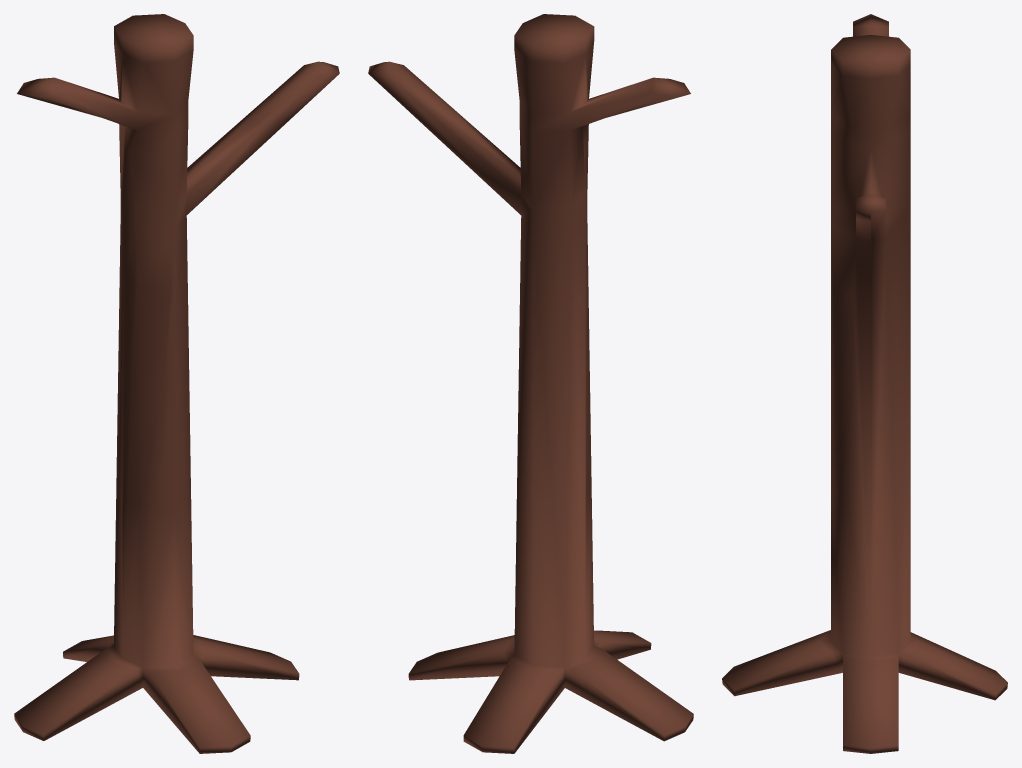
The model's file is CoatRack2.fbx.
The picture shows the model from 3 angles, left to right: view 1: azimuth 30°, elevation 25°; view 2: azimuth 150°, elevation 25°; view 3: azimuth 270°, elevation 25°; orthographic projection. The views are drawn at different scales.
Visible parts, largest first — view 1: Cube.074; view 2: Cube.074; view 3: Cube.074.
Part boxes in pixels (x1,y1,x2,y2): Cube.074: (14,14,339,753); Cube.074: (368,14,693,753); Cube.074: (722,14,1007,753).
Bounding box in the file's own units: 45.35 × 90.4 × 36.57.
